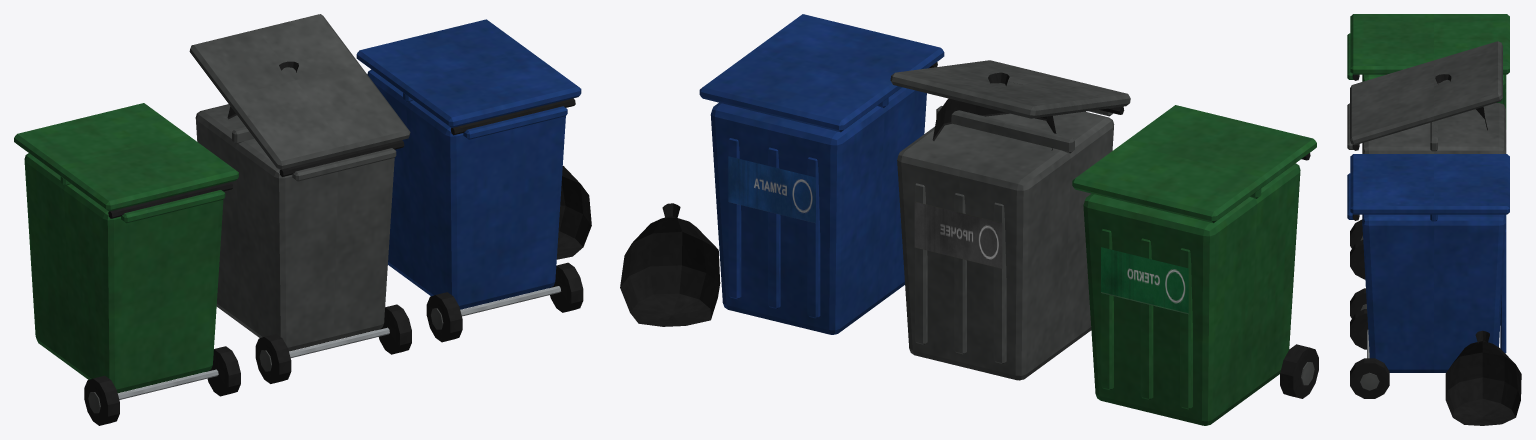
File: pr_wbins.glb
The picture shows the model from 3 angles, left to right: view 1: azimuth 30°, elevation 25°; view 2: azimuth 150°, elevation 25°; view 3: azimuth 270°, elevation 25°; orthographic projection. The views are drawn at different scales.
Visible parts, largest first — view 1: pr_wbins; view 2: pr_wbins; view 3: pr_wbins.
Boxes of the visible parts, x1,y1,x2,y2 form: pr_wbins: (14, 14, 591, 425); pr_wbins: (620, 14, 1318, 425); pr_wbins: (1347, 14, 1521, 425).
Size of the model in its own units: 2.76 by 1.34 by 0.8943.
1 material, 1 textured.
